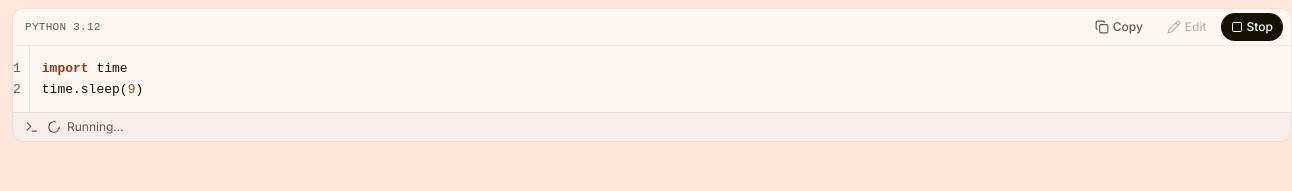
Scenario: RunnableCodeBlock › prevents accidental duplicate runs while one is in flight, and Stop cancels it
Earlier steps of the test are not shown.
Expected: the text "Running…" is shown, [47,119,124,135]
Click the button with aria-label "Stop running".
click(1252, 27)  # box [1221,13,1283,41]
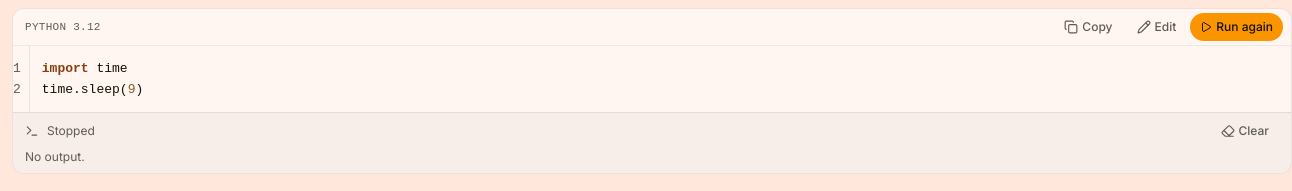
Now the message reads "Stopped", box [47,123,95,138]
